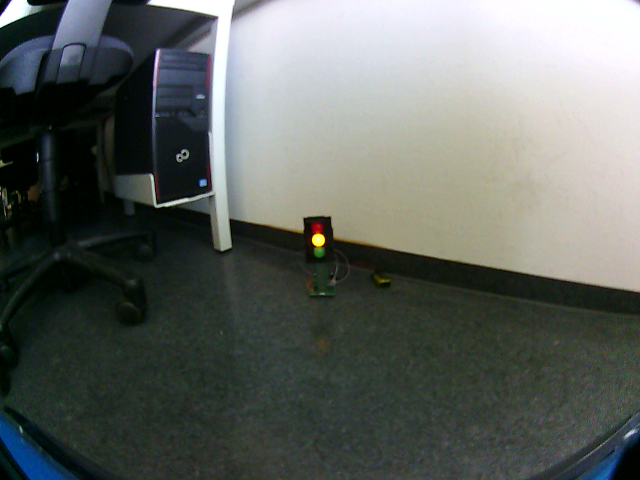yellow trafficlight: (306, 216, 329, 261)
